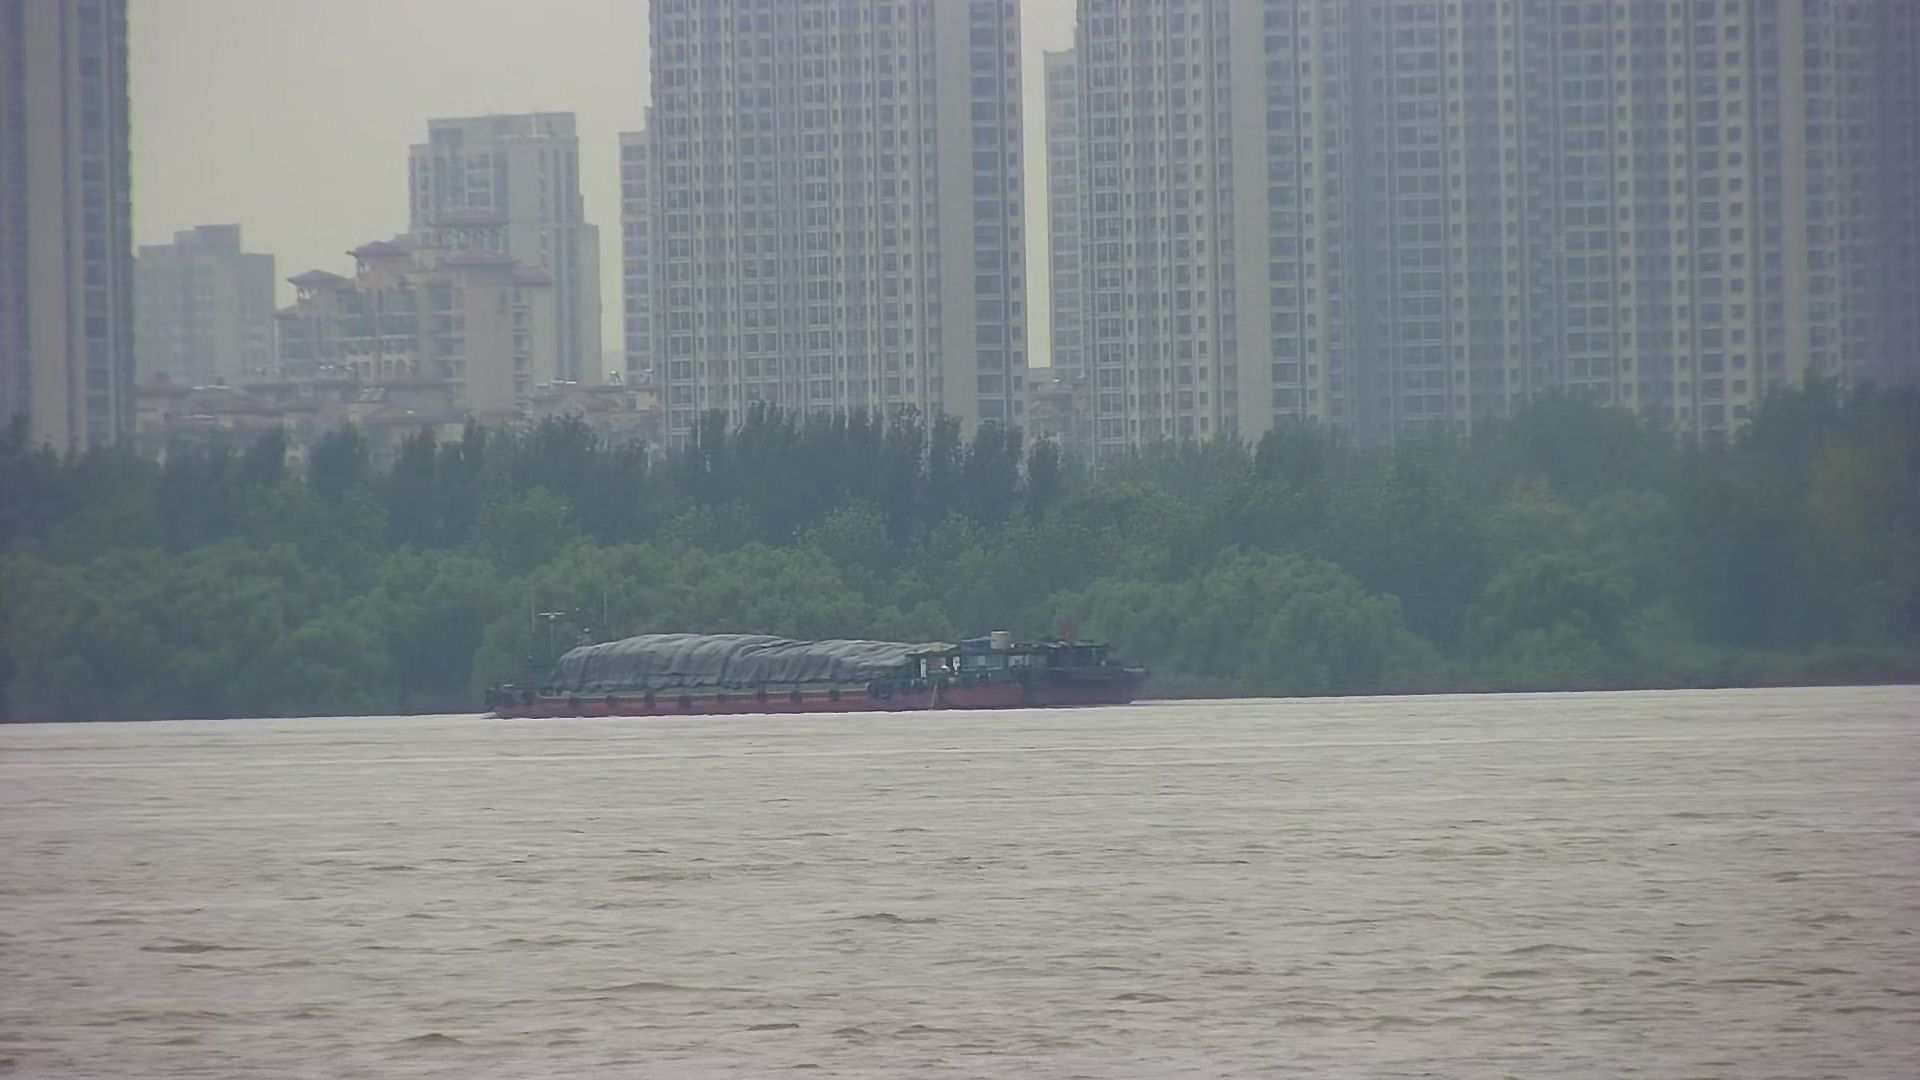ship: (489, 607, 1159, 717)
